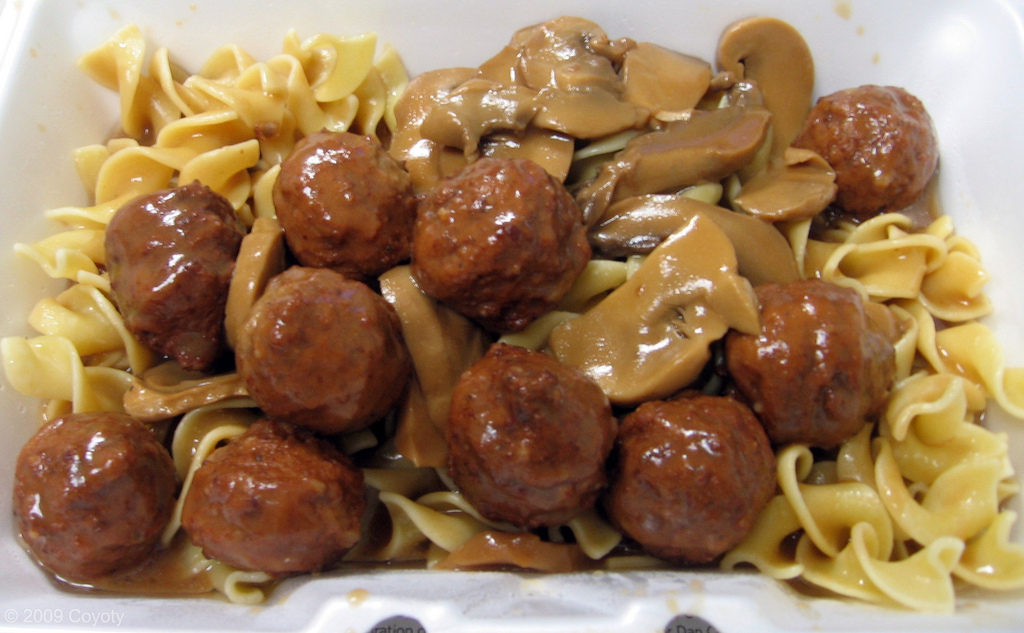meatballs: (252, 131, 388, 539), (463, 375, 773, 546), (737, 293, 886, 398)
plain spaghetti: (817, 452, 1017, 572)
